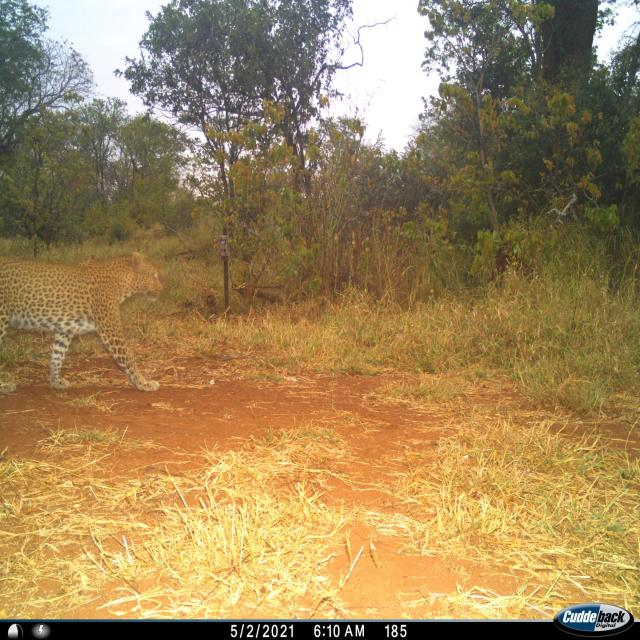Leopard: (0, 231, 165, 396)
